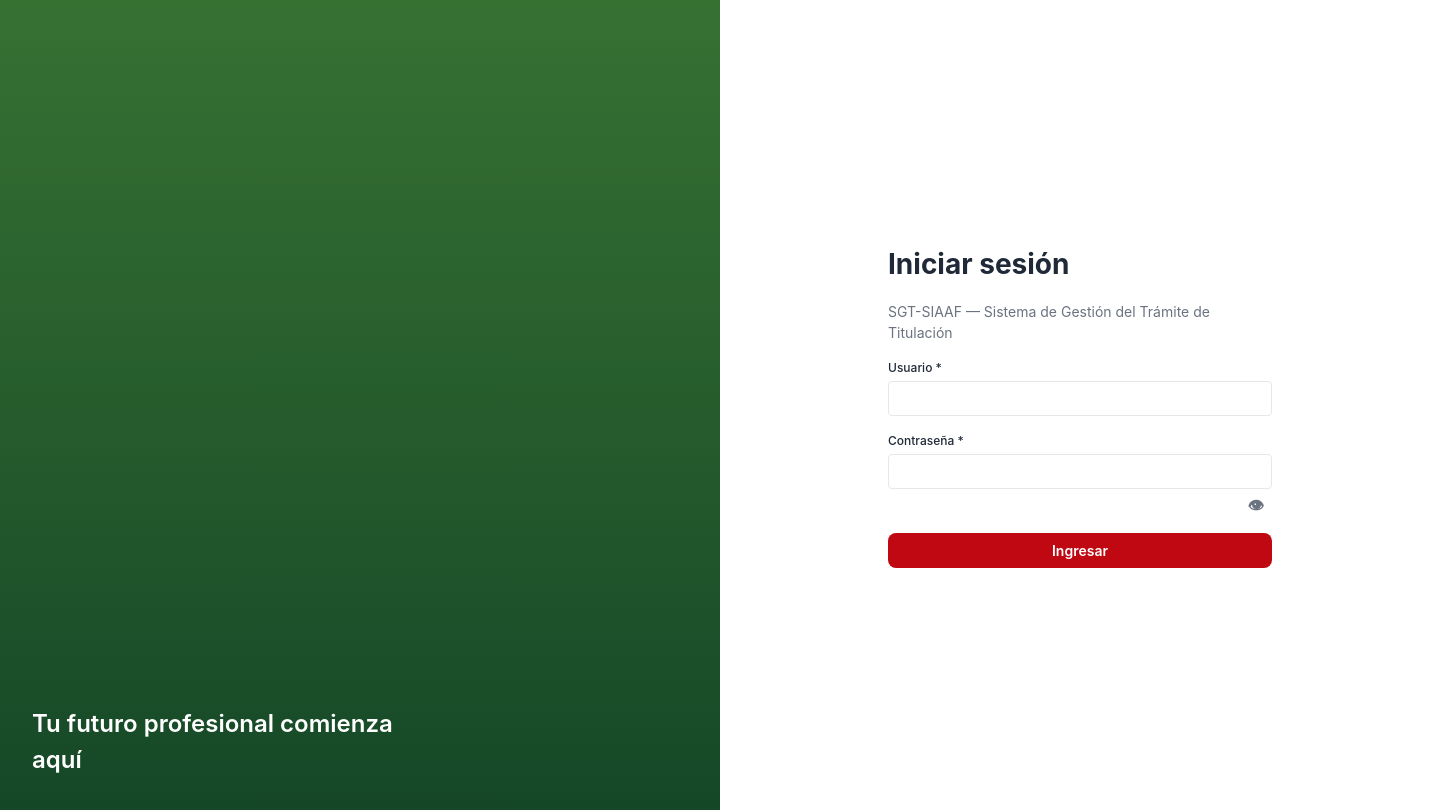
Test: LoginPage (V-01, integración real) › CA-V01-02: credenciales inválidas (401) muestran un mensaje genérico, permanece en /login y no dispara el cierre de sesión global (P2-3)
Type "incorrecto" into the field labelled "Usuario *" at [1080, 398], box [888,380,1272,416]
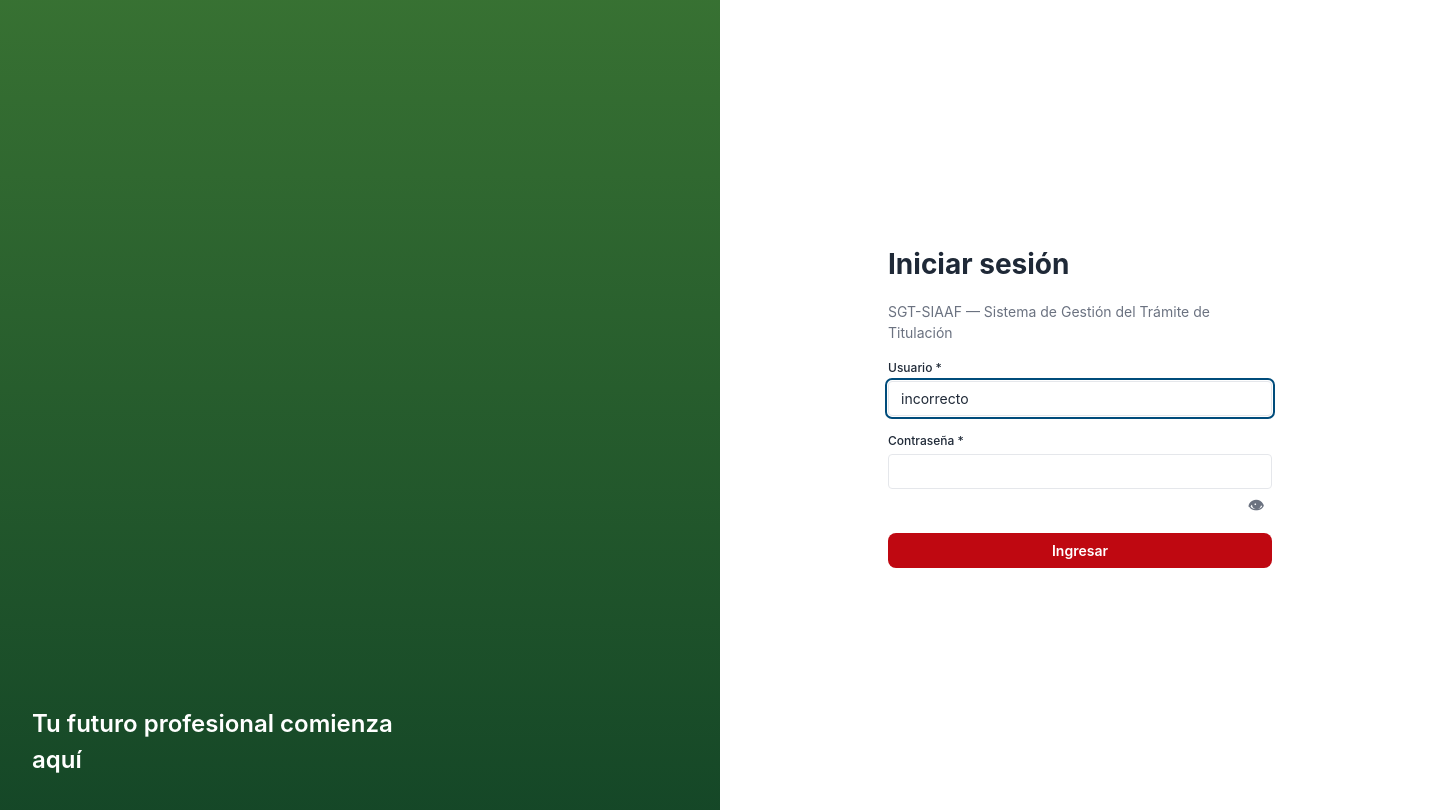
Type "incorrecto" into the password field labelled "Contraseña *" at [1080, 471], box [888,454,1272,488]
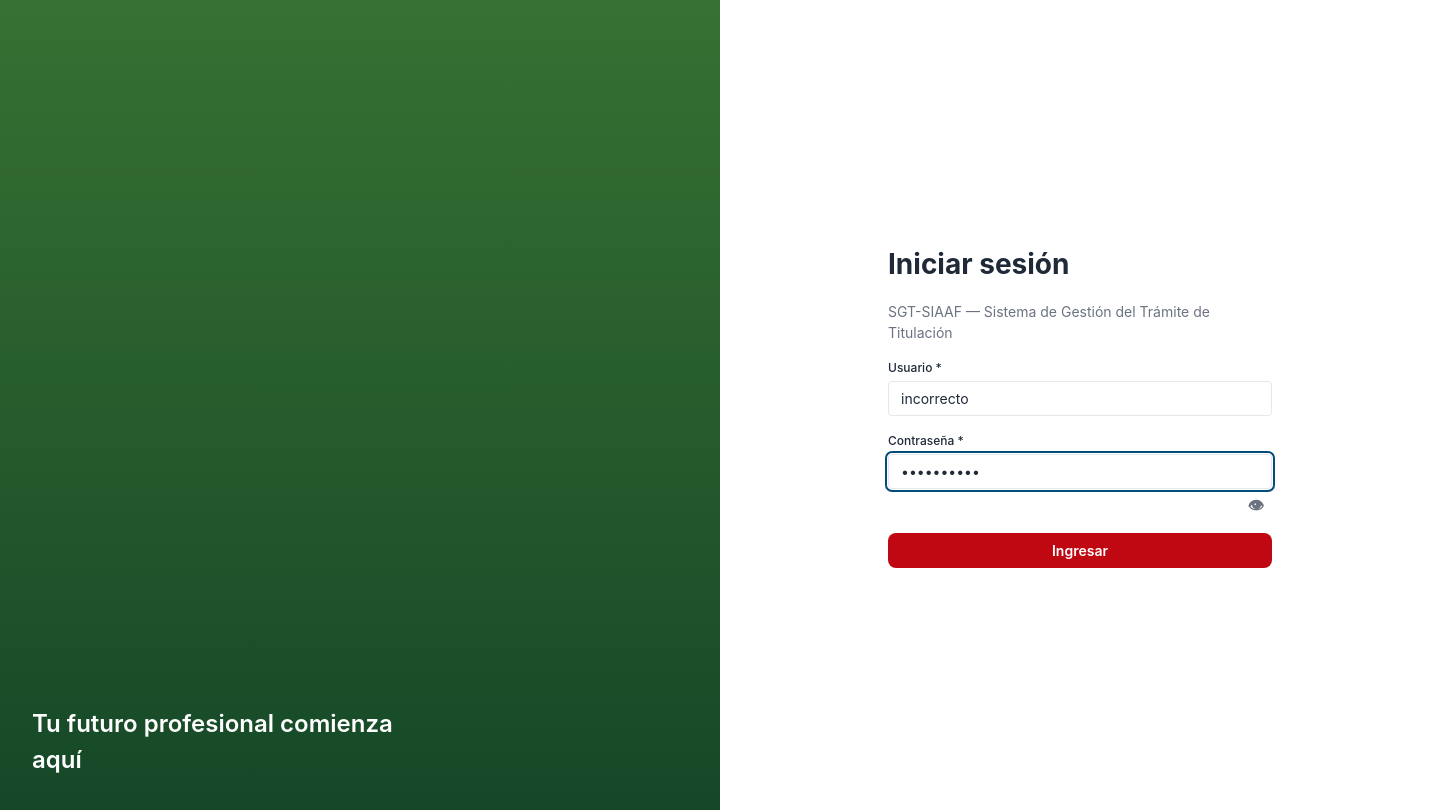
Click the button "Ingresar" at [1080, 550], box [888,532,1272,568]
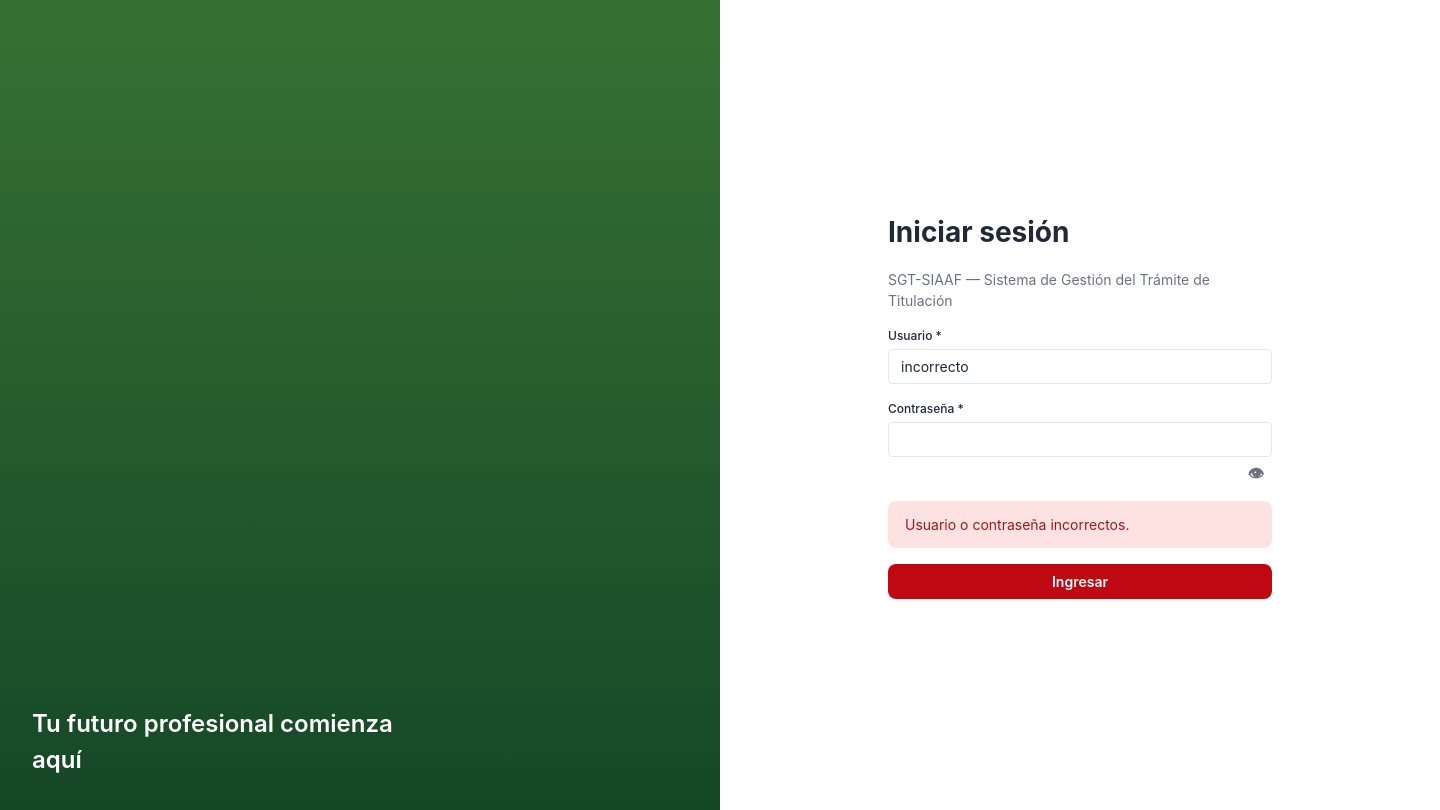
expect the heading "Iniciar sesión" is shown: met, box [888,215,1070,249]
expect the message reads "Usuario o contraseña incorrectos.": met, box [905,516,1129,533]
